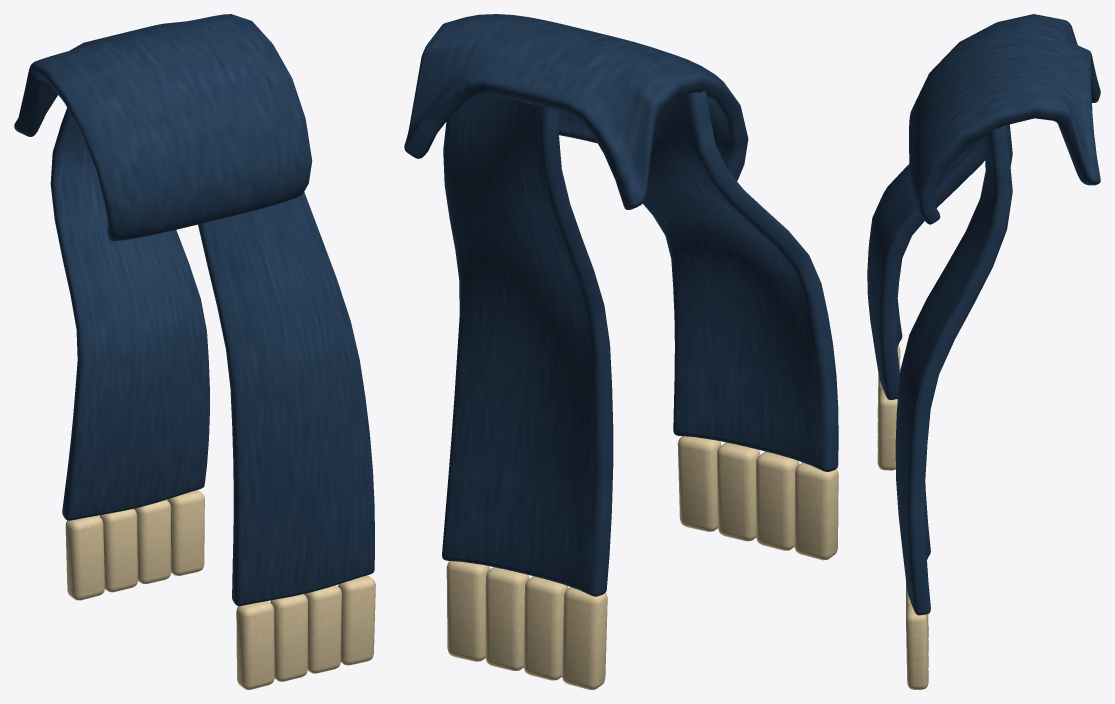
The model's file is PM_WinterScarf.fbx.
3 renders of one model, left to right at view 1: azimuth 30°, elevation 25°; view 2: azimuth 150°, elevation 25°; view 3: azimuth 270°, elevation 25°, orthographic. The views are drawn at different scales.
Parts seen in each view (by area): view 1: PM_WinterScarf; view 2: PM_WinterScarf; view 3: PM_WinterScarf.
Boxes of the visible parts, x1,y1,x2,y2 form: PM_WinterScarf: (14, 14, 375, 689); PM_WinterScarf: (404, 14, 838, 689); PM_WinterScarf: (867, 14, 1100, 689).
Bounding box in the file's own units: 55.25 × 99.99 × 37.15.
Materials: 1 (1 with a texture image).
